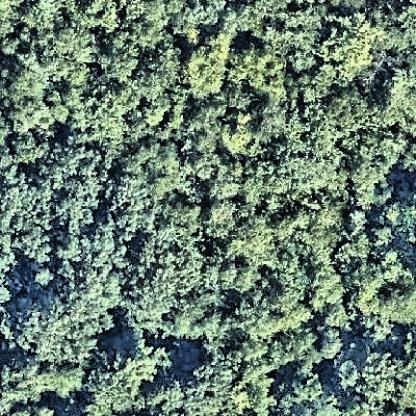tree-top: (346, 207, 416, 323), (78, 341, 176, 413), (134, 235, 203, 320), (66, 236, 129, 327), (317, 8, 386, 88), (13, 302, 104, 362), (176, 362, 266, 416), (49, 150, 106, 235), (235, 279, 314, 339), (306, 84, 380, 145), (27, 1, 96, 64), (1, 181, 58, 255), (126, 134, 186, 199), (186, 27, 238, 100), (1, 362, 82, 405), (283, 157, 353, 206), (61, 101, 131, 149), (1, 76, 55, 134), (228, 220, 286, 273), (351, 348, 403, 406), (95, 30, 147, 82), (134, 47, 182, 101), (194, 198, 249, 242), (386, 65, 416, 142), (243, 93, 290, 141), (10, 128, 49, 172), (289, 362, 331, 402), (310, 269, 346, 313), (1, 1, 28, 55), (31, 261, 58, 292)
